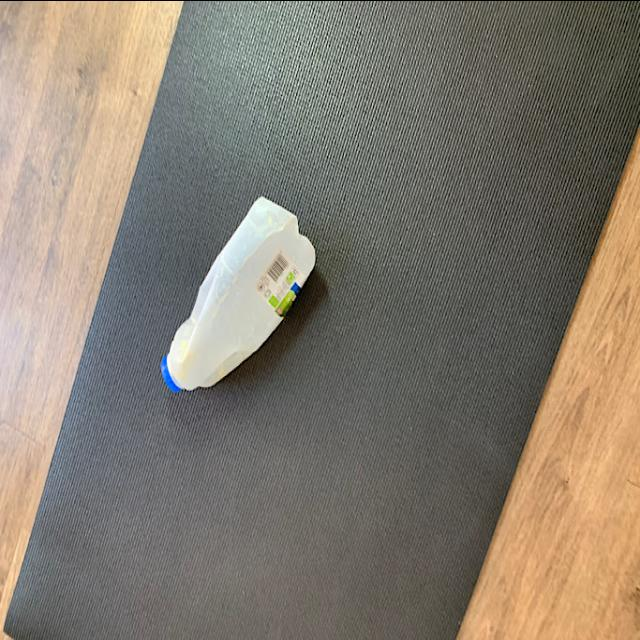HDPEM: (158, 196, 320, 388)
